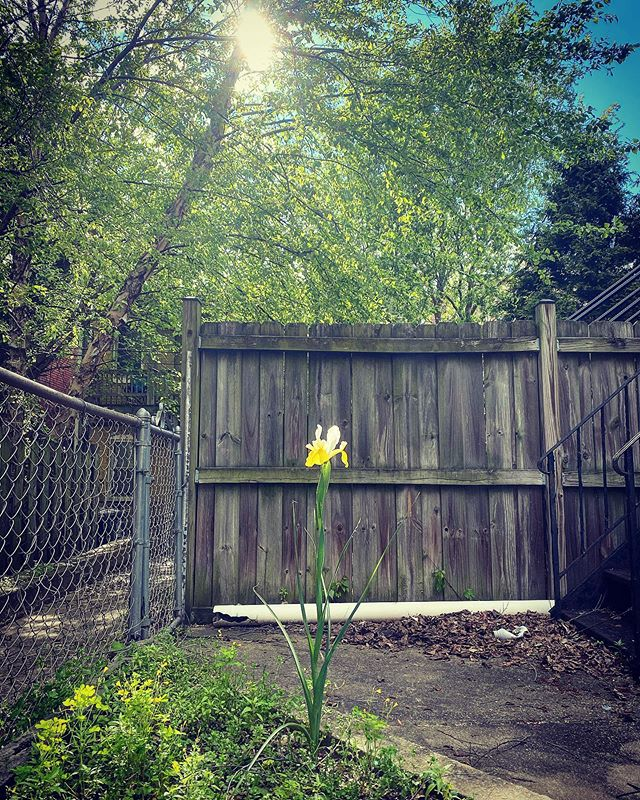flowers: (272, 421, 367, 774)
vegetation: (1, 1, 604, 307)
